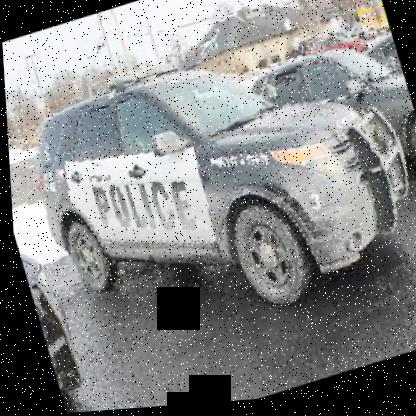emergency: (7, 0, 415, 382)
